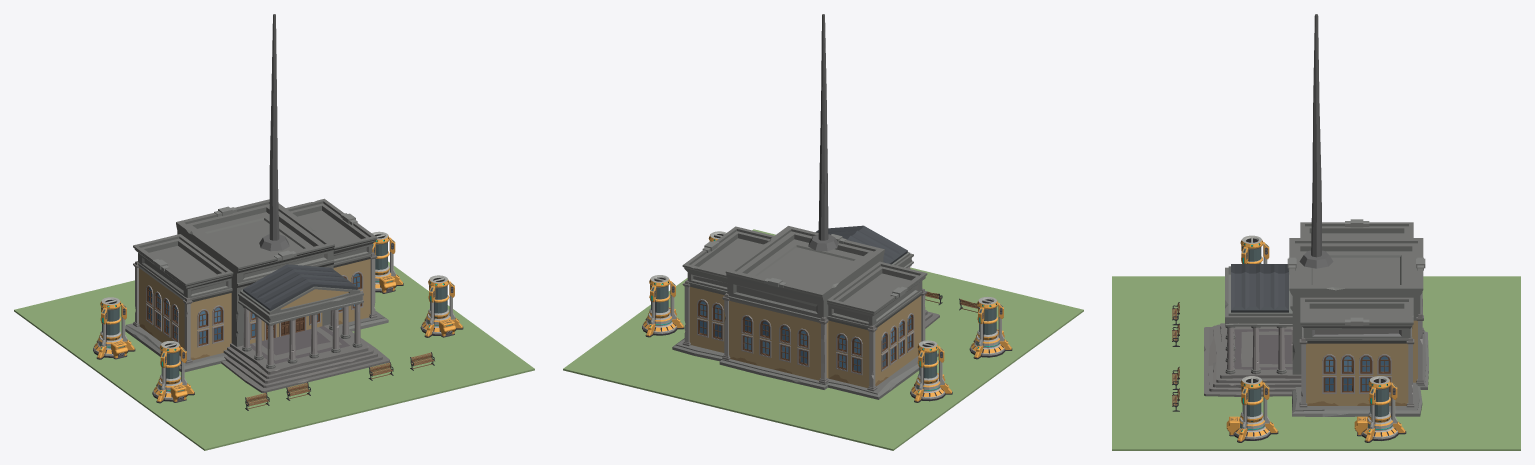
Rendered from gala-hall.glb.
3 renders of one model, left to right at view 1: azimuth 30°, elevation 25°; view 2: azimuth 150°, elevation 25°; view 3: azimuth 270°, elevation 25°, orthographic. The views are drawn at different scales.
Visible parts, largest first — view 1: GalaHall_Main, Ground, GalaHall_Spire, Tower_0, Tower_2, Tower_1, Tower_3; view 2: GalaHall_Main, Ground, GalaHall_Spire, Tower_3, Tower_2, Tower_0; view 3: Ground, GalaHall_Main, GalaHall_Spire, Tower_1, Tower_3, Tower_0.
Part boxes in pixels (x1,y1,x2,y2): GalaHall_Main: (125,198,389,392); Ground: (14,261,534,450); GalaHall_Spire: (259,14,289,251); Tower_0: (152,341,194,403); Tower_2: (93,297,135,359); Tower_1: (420,275,463,337); Tower_3: (372,231,403,293); GalaHall_Main: (672,225,939,399); Ground: (563,229,1083,450); GalaHall_Spire: (808,14,838,251); Tower_3: (642,275,684,337); Tower_2: (910,340,952,402); Tower_0: (969,297,1012,359); Ground: (1112,276,1520,450); GalaHall_Main: (1204,219,1428,416); GalaHall_Spire: (1299,14,1333,268); Tower_1: (1226,376,1278,442); Tower_3: (1354,376,1406,442); Tower_0: (1240,235,1269,263).
Size of the model in its own units: 32 by 30.21 by 32.
Materials: 3 (2 with a texture image).
